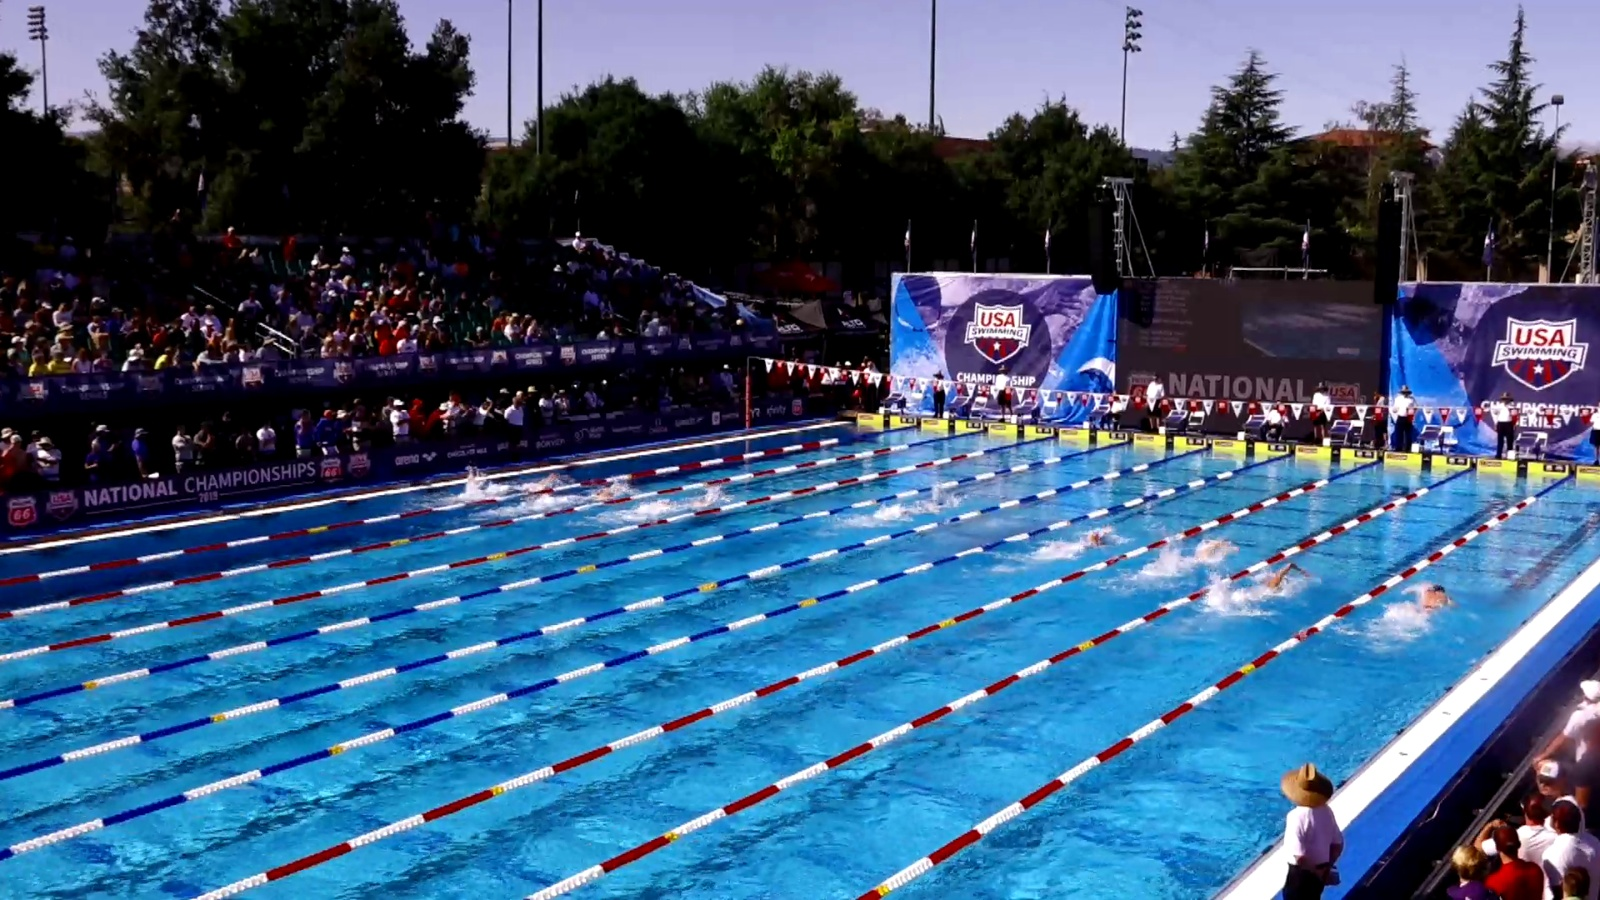swimmerw: (1379, 582, 1459, 634), (1230, 562, 1305, 608), (659, 482, 737, 518), (1170, 537, 1243, 573), (1051, 523, 1121, 552), (563, 485, 627, 505), (502, 475, 562, 492)
